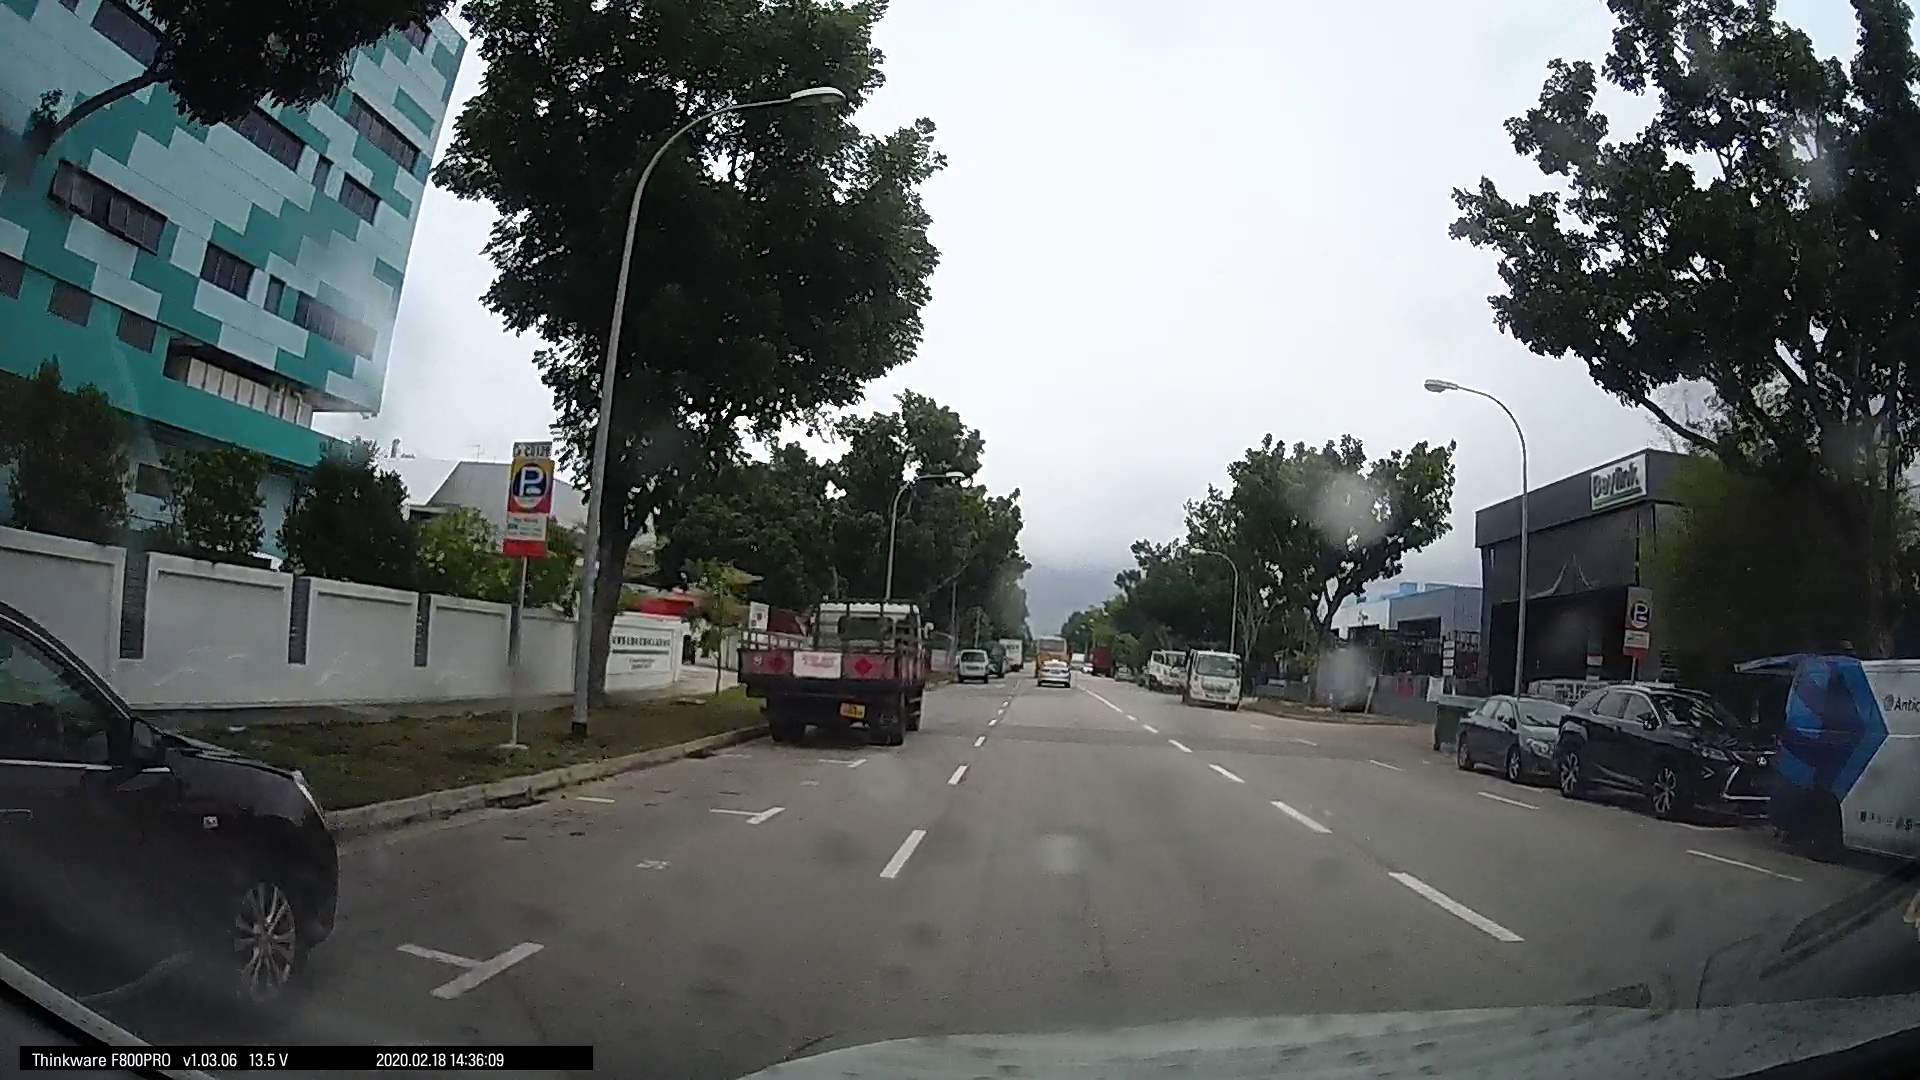Heavy Vehicle: (750, 589, 934, 745)
Light Vehicle: (3, 628, 353, 1015), (1542, 676, 1783, 818), (1449, 688, 1561, 785), (1175, 645, 1241, 707), (949, 642, 993, 682), (1029, 645, 1071, 684)
